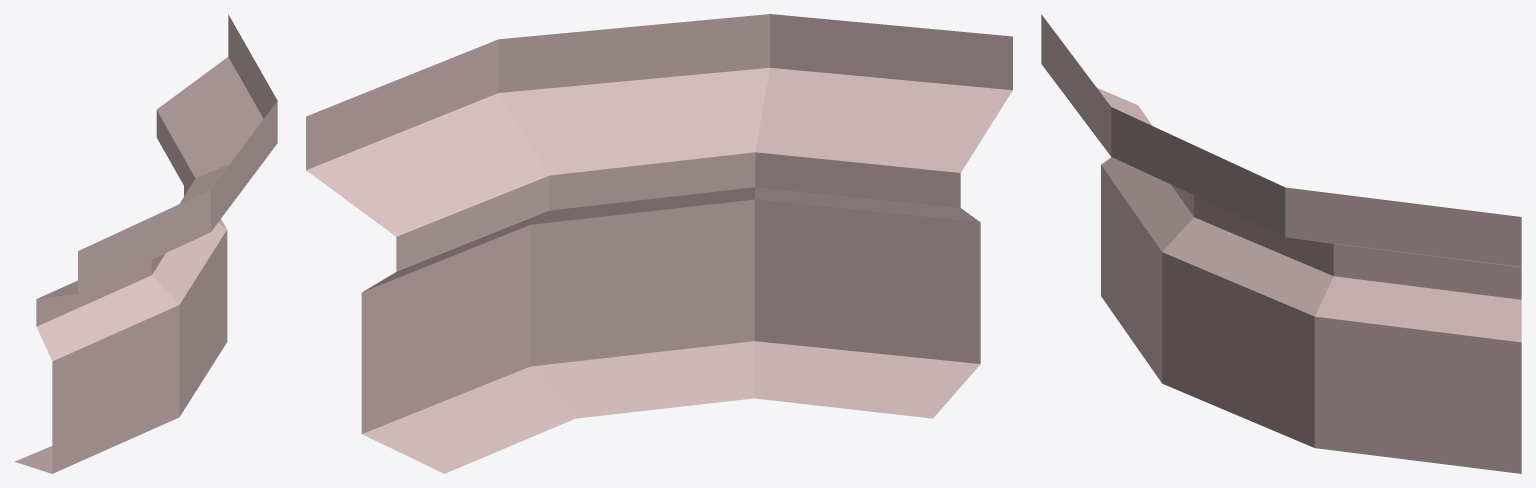
Rendered from castle_tower_medium_endpiece_02.fbx.
3 views of the same model, side by side, from view 1: azimuth 30°, elevation 25°; view 2: azimuth 150°, elevation 25°; view 3: azimuth 270°, elevation 25° (orthographic). The views are drawn at different scales.
Visible parts, largest first — view 1: castle_tower_medium_endpiece_02; view 2: castle_tower_medium_endpiece_02; view 3: castle_tower_medium_endpiece_02.
Boxes of the visible parts, x1=… form: castle_tower_medium_endpiece_02: x1=15, y1=14, x2=277, y2=473; castle_tower_medium_endpiece_02: x1=306, y1=14, x2=1012, y2=473; castle_tower_medium_endpiece_02: x1=1041, y1=14, x2=1521, y2=473.
Bounding box in the file's own units: 5.81 × 4.01 × 5.81.
